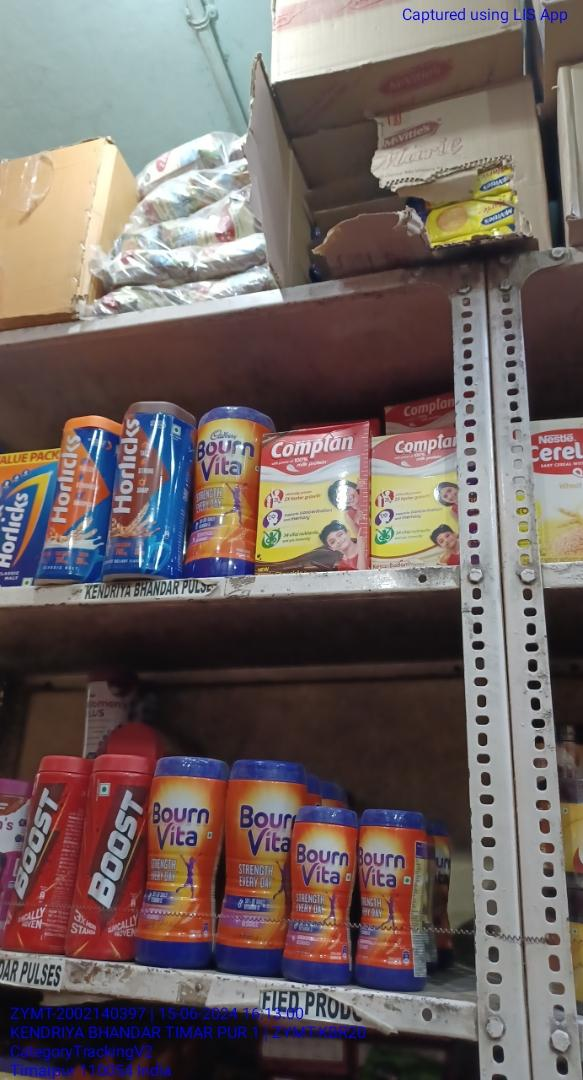BOURN_VITA_200_G_JAR: (357, 805, 428, 983), (289, 807, 352, 984)
BOURN_VITA_500_G_JAR: (148, 754, 214, 969), (225, 757, 282, 975), (188, 400, 253, 579)
COMPLAN_CHOCOLATE_200_GMS_PACK: (260, 428, 370, 572)
HORLICK_CHOCOLATE_500_G_JAR: (113, 402, 168, 581)
HORLICK_CLASSIC_MALT_500_G_JAR: (35, 421, 107, 581)
